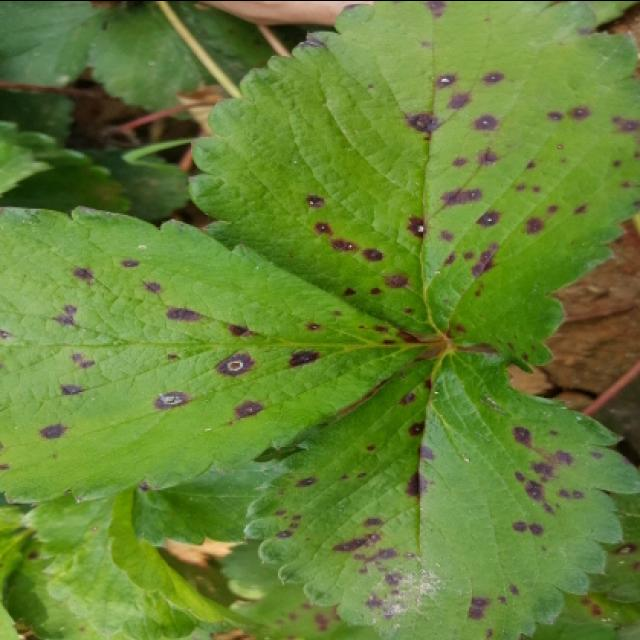Leaf Spot: (186, 0, 638, 373), (0, 203, 427, 505), (244, 345, 638, 638), (219, 538, 374, 638), (535, 495, 638, 638), (8, 533, 128, 638)
